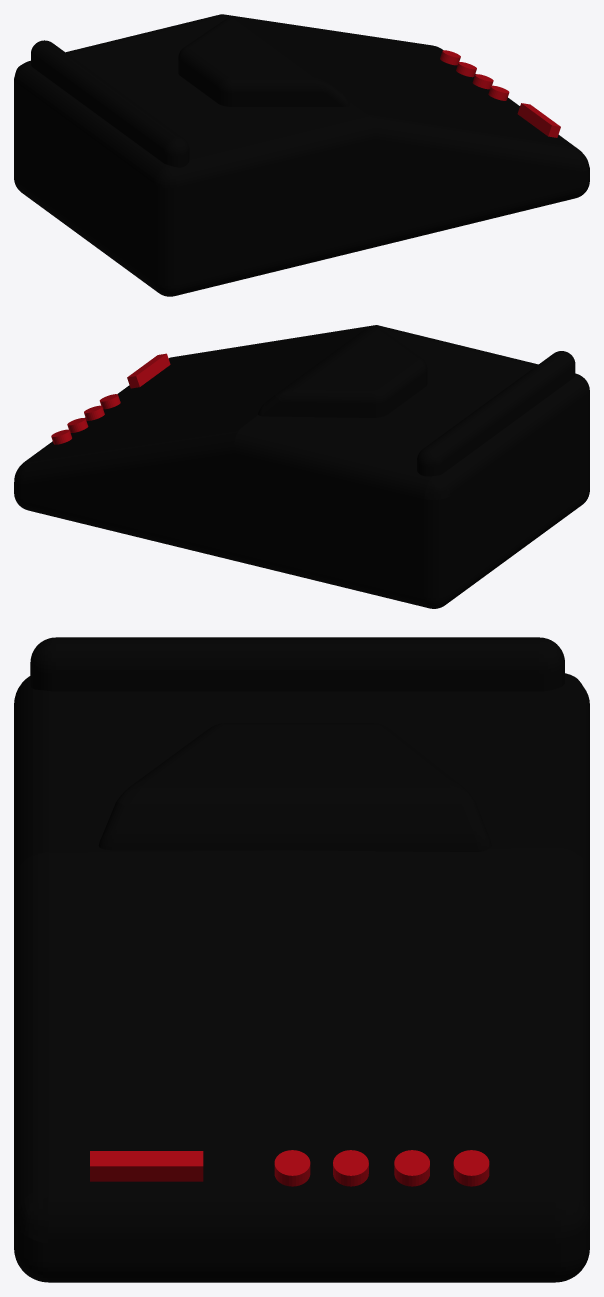
The model's file is svark.fbx.
3 views of the same model, one above another, from view 1: azimuth 30°, elevation 25°; view 2: azimuth 150°, elevation 25°; view 3: azimuth 270°, elevation 25° (orthographic). The views are drawn at different scales.
Parts seen in each view (by area): view 1: Cube; view 2: Cube; view 3: Cube.
Boxes of the visible parts, x1,y1,x2,y2 form: Cube: (14,14,589,296); Cube: (14,325,589,608); Cube: (14,637,589,1282).
Bounding box in the file's own units: 268 × 92.28 × 167.
